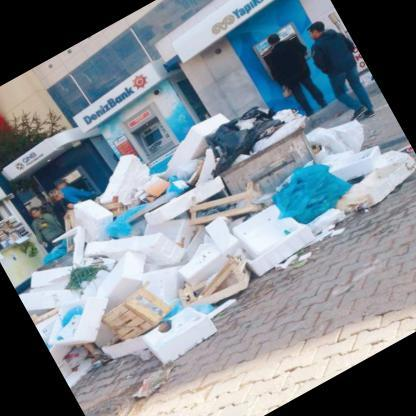Garbage: (7, 168, 269, 406), (54, 155, 276, 403), (266, 148, 392, 270), (193, 88, 307, 176), (320, 104, 408, 184), (270, 218, 356, 276), (125, 354, 192, 410), (60, 247, 122, 298), (100, 195, 157, 250), (160, 156, 214, 203)
